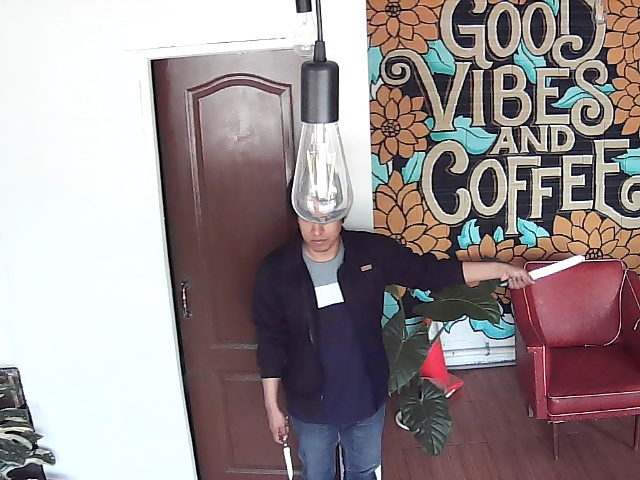cuchillo: (498, 249, 592, 290)
